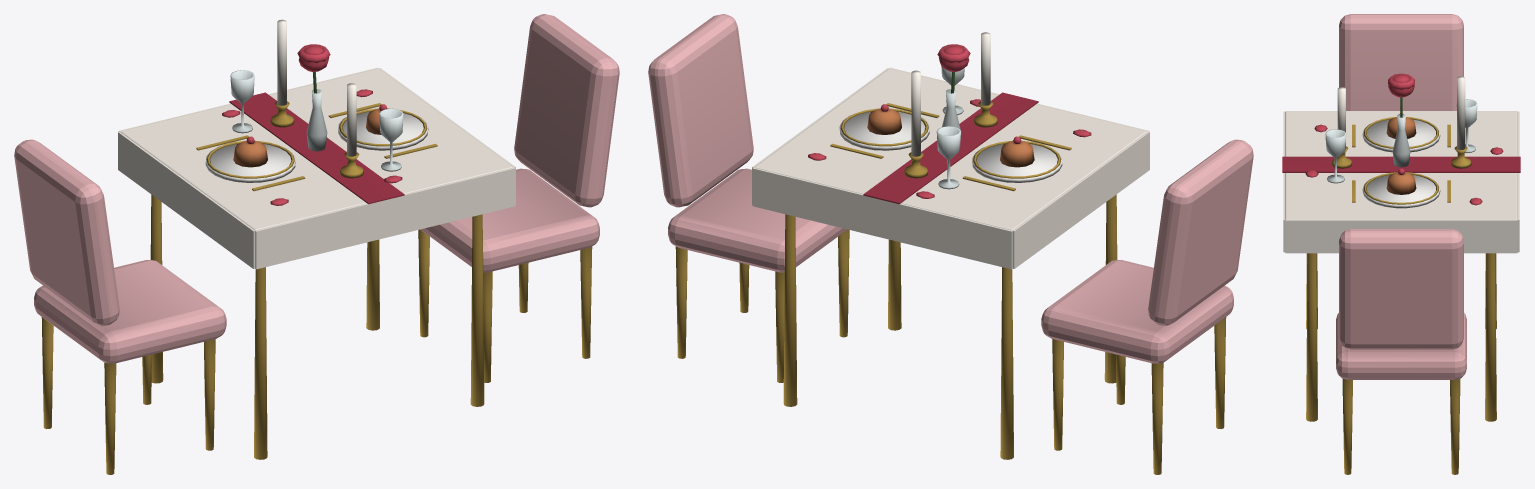
Rendered from candlelitTable.glb.
3 views of the same model, side by side, from view 1: azimuth 30°, elevation 25°; view 2: azimuth 150°, elevation 25°; view 3: azimuth 270°, elevation 25° (orthographic). The views are drawn at different scales.
Visible parts, largest first — view 1: body; view 2: body; view 3: body.
Boxes of the visible parts, x1,y1,x2,y2 form: body: (14, 14, 619, 474); body: (648, 14, 1253, 474); body: (1282, 14, 1520, 474).
Size of the model in its own units: 1.8 by 1.1 by 0.8.
